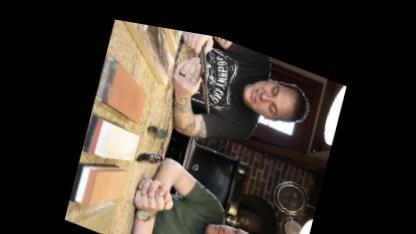knife: (173, 24, 235, 119)
